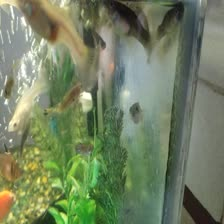Guppy: (18, 0, 92, 94), (9, 76, 47, 136), (127, 98, 149, 127)
Plano: (0, 186, 21, 213)
Transparente: (0, 144, 28, 182)
